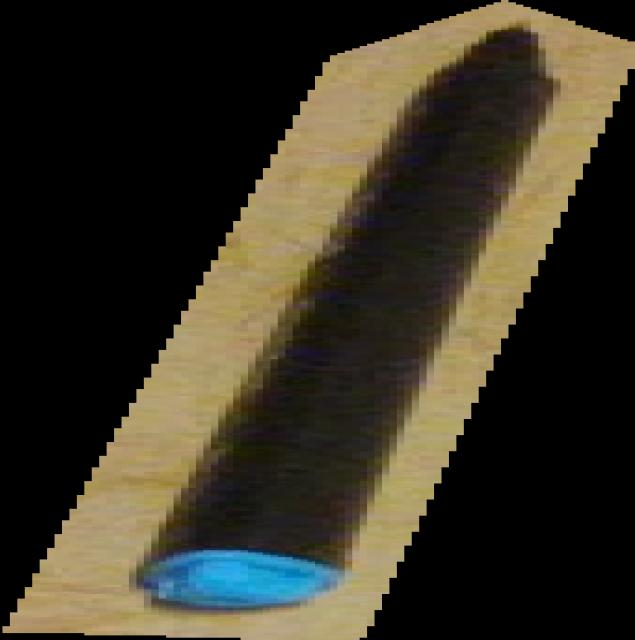blue: (0, 1, 635, 640)
